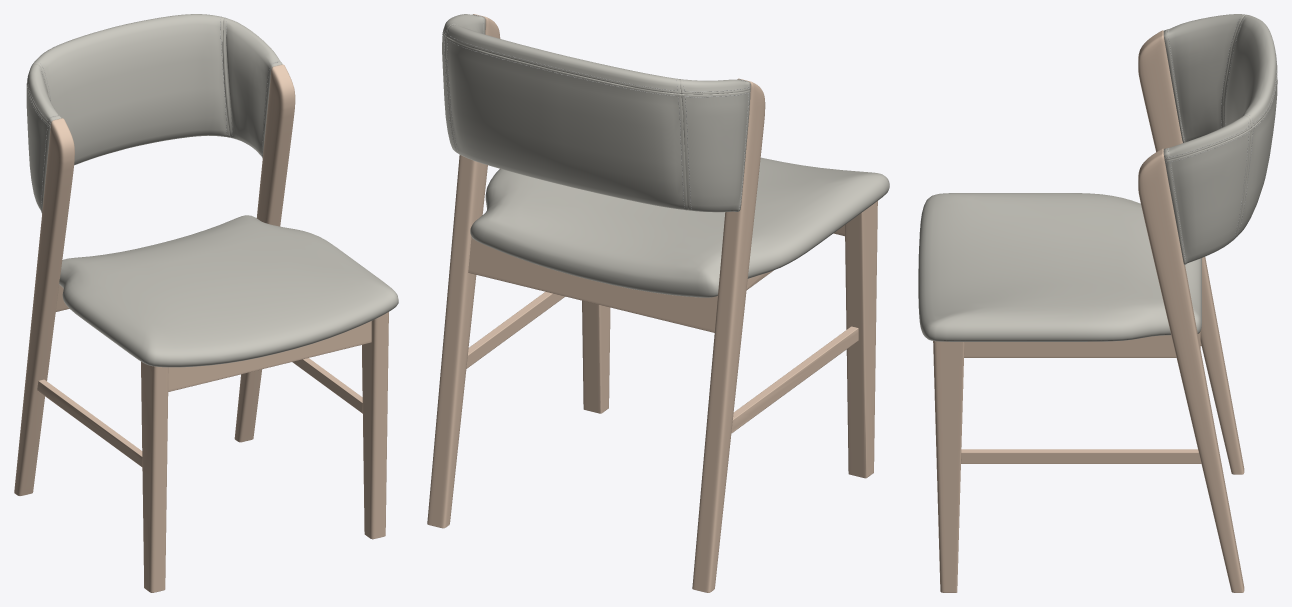
Rendered from cadeira-agata.glb.
The picture shows the model from 3 angles, left to right: view 1: azimuth 30°, elevation 25°; view 2: azimuth 150°, elevation 25°; view 3: azimuth 270°, elevation 25°; orthographic projection. The views are drawn at different scales.
Size of the model in its own units: 0.5066 by 0.8084 by 0.5583.
